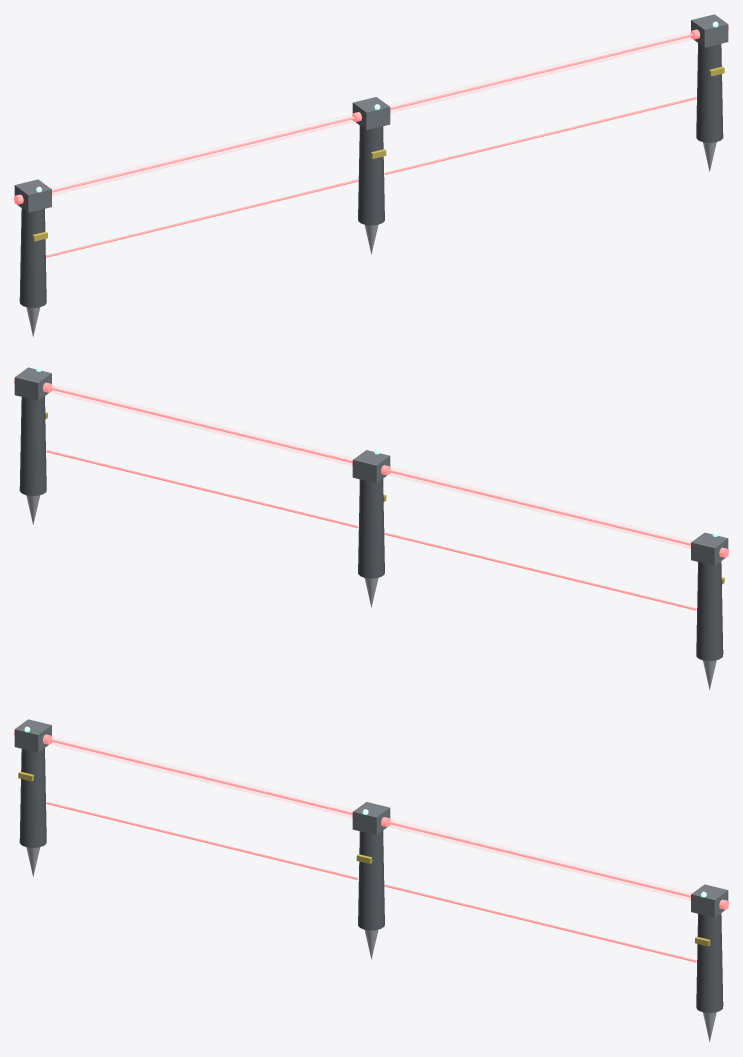
The model's file is laser_tripwire_net.glb.
3 renders of one model, top to bottom at view 1: azimuth 30°, elevation 25°; view 2: azimuth 150°, elevation 25°; view 3: azimuth 330°, elevation 25°, orthographic.
Parts seen in each view (by area): view 1: laser_tripwire_net; view 2: laser_tripwire_net; view 3: laser_tripwire_net.
Part boxes in pixels (x1=…): laser_tripwire_net: x1=14, y1=14, x2=728, y2=336; laser_tripwire_net: x1=14, y1=366, x2=728, y2=689; laser_tripwire_net: x1=14, y1=719, x2=728, y2=1041.
Bounding box in the file's own units: 2.1 × 0.438 × 0.076.
